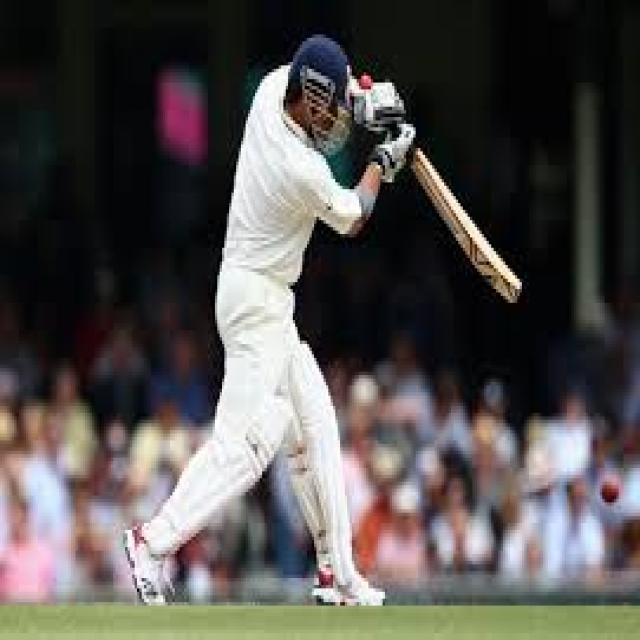bat: (408, 148, 524, 304)
toe: (509, 275, 522, 306)
